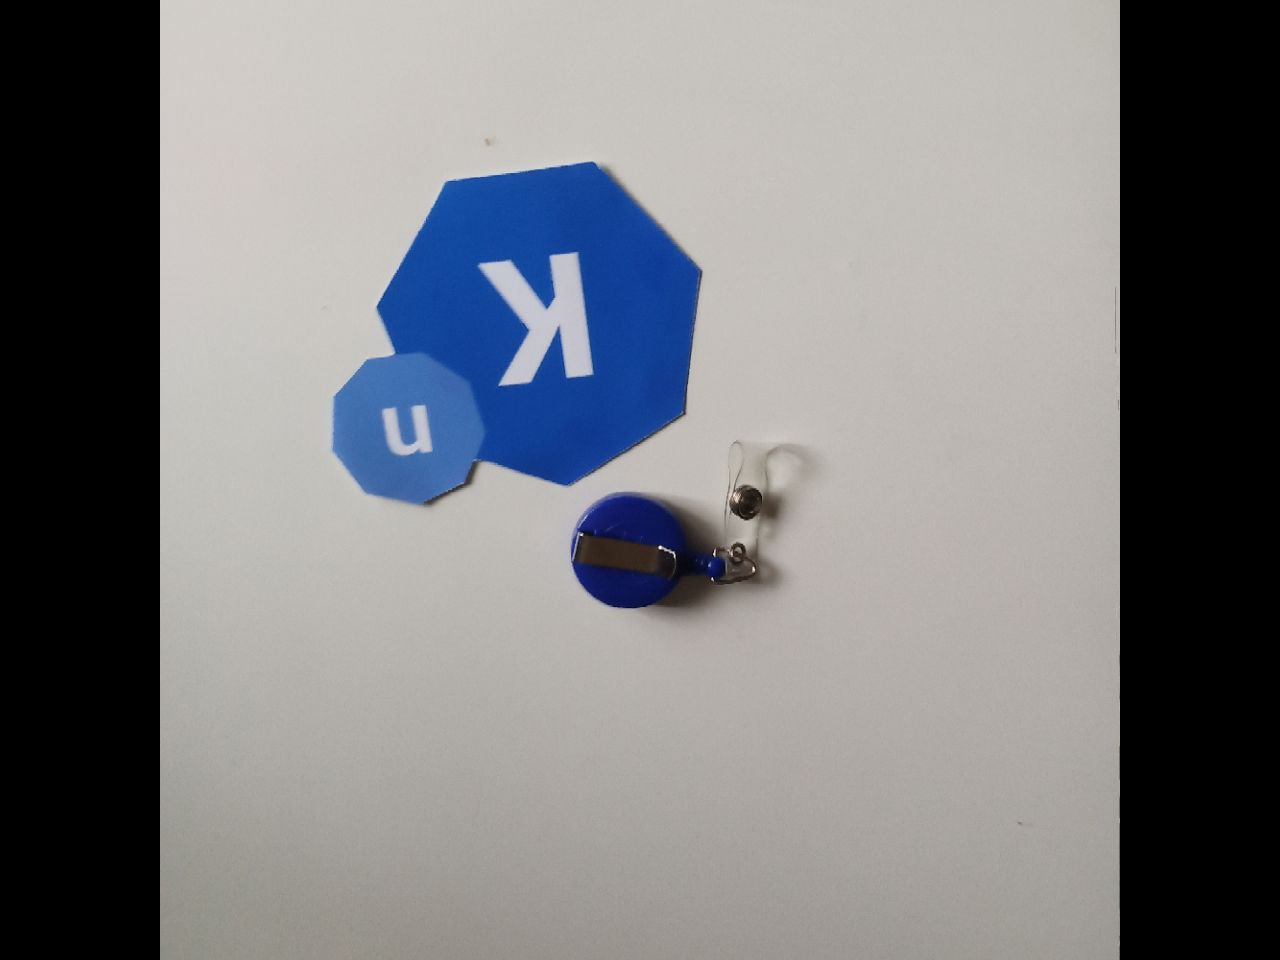knative: (329, 158, 703, 503)
